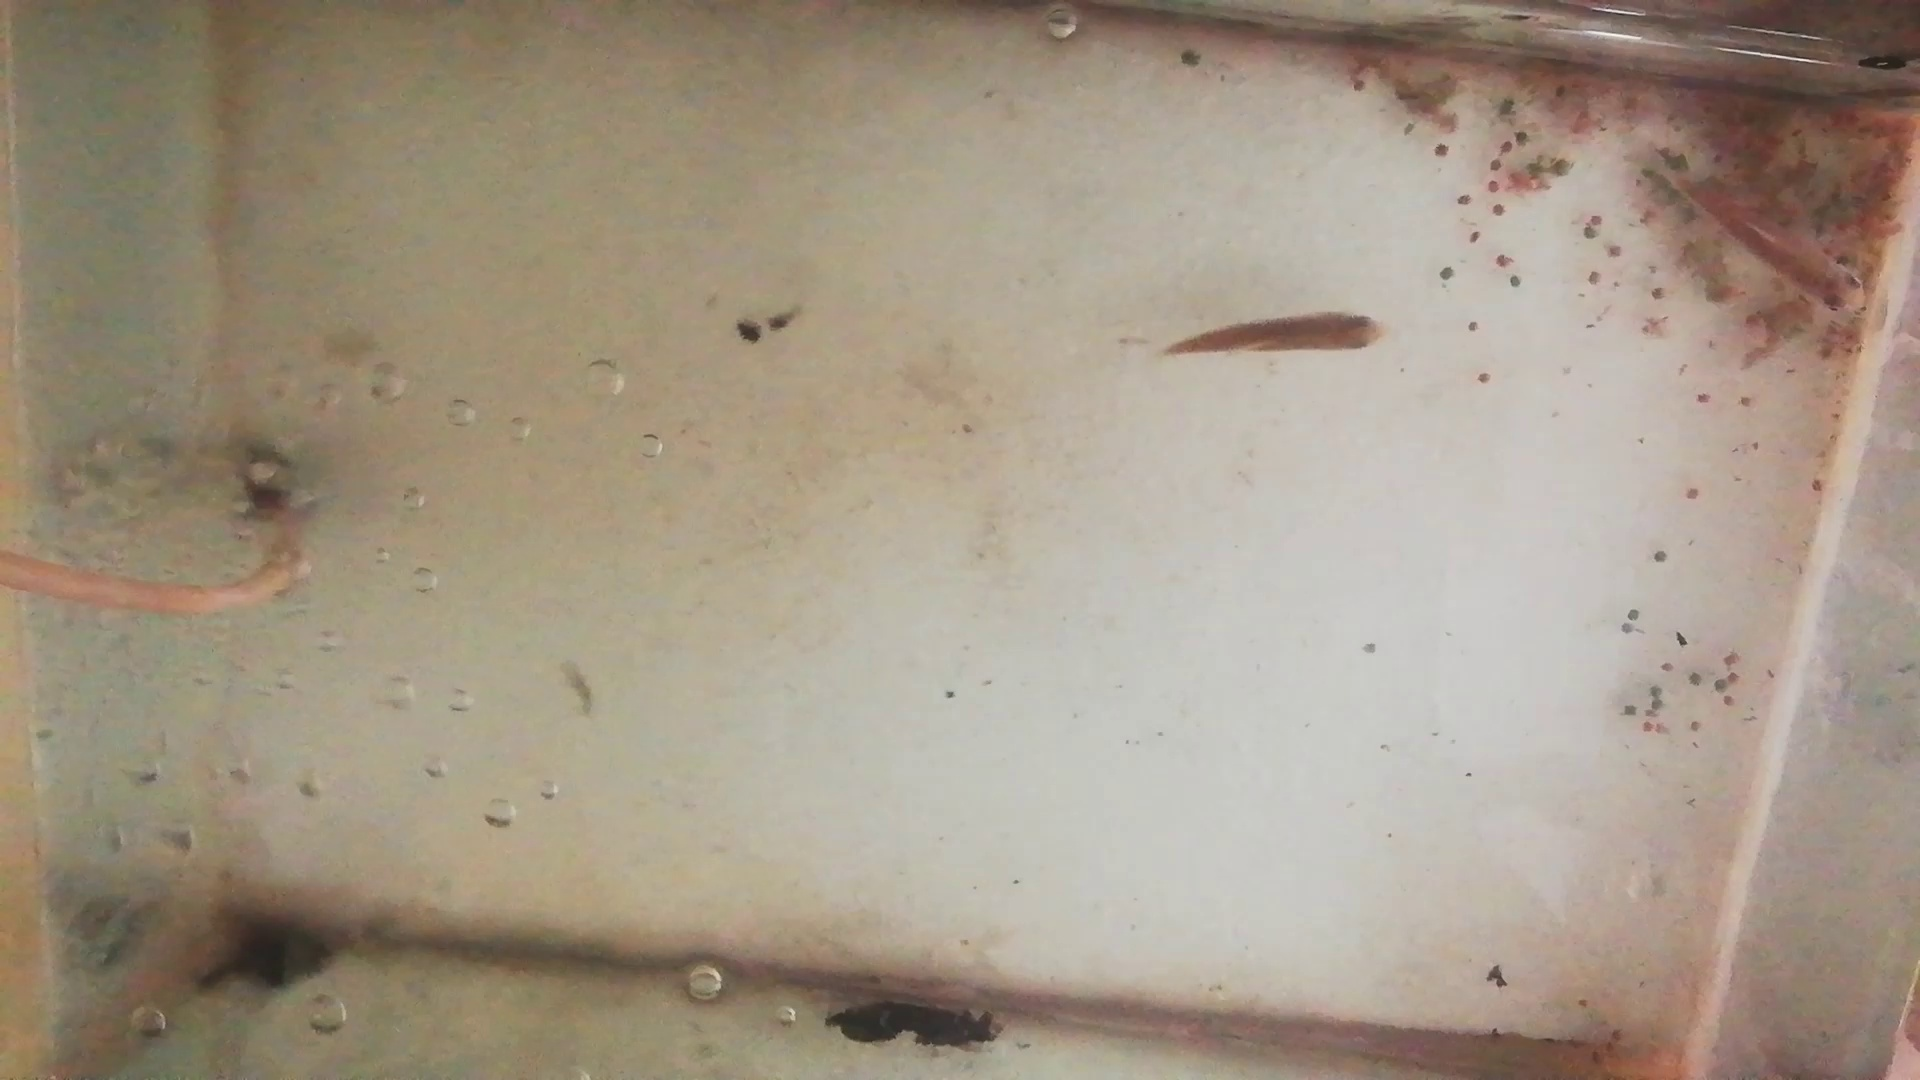fish: (1671, 175, 1865, 318), (1164, 309, 1386, 357)
